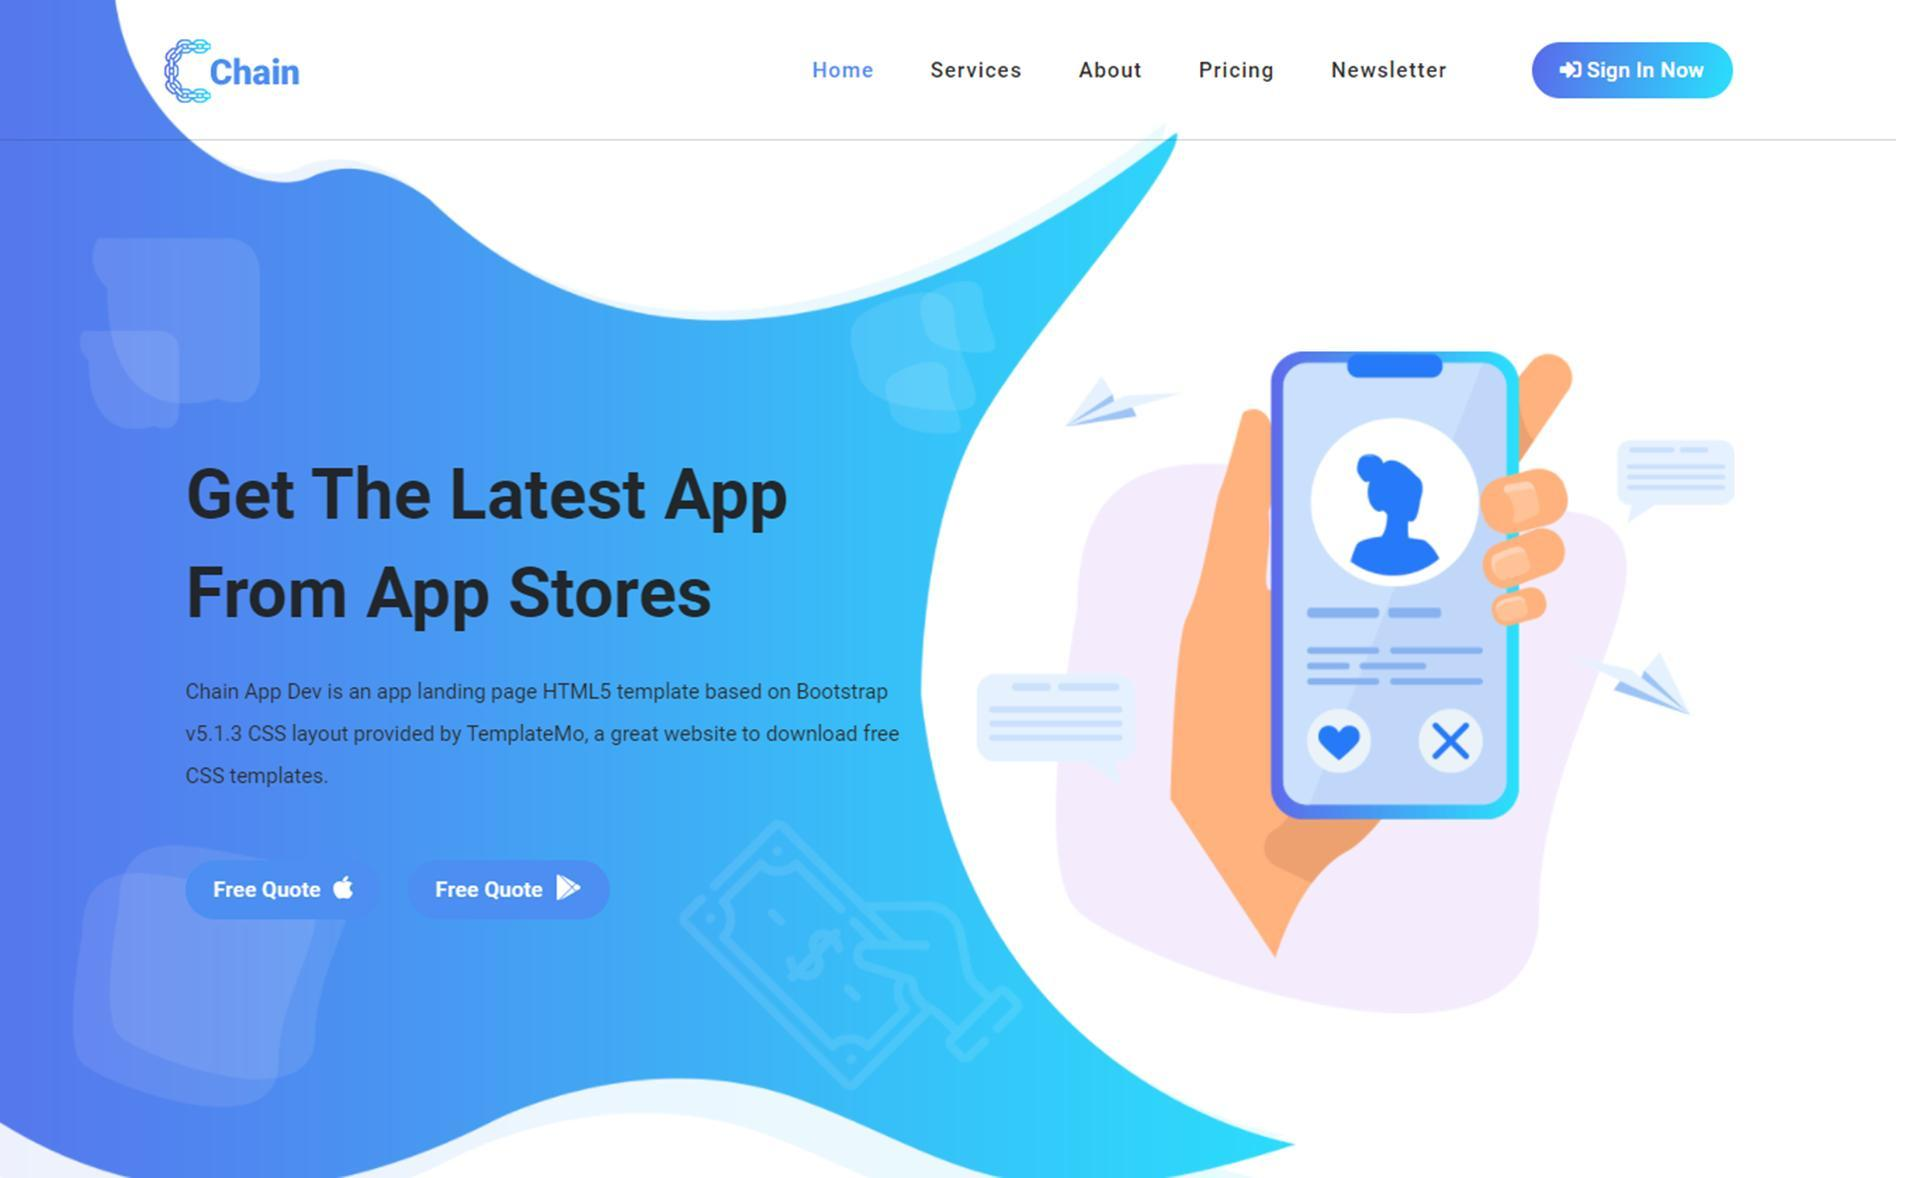button: (410, 858, 614, 922), (1535, 43, 1736, 100), (187, 863, 381, 922)
icon: (1318, 721, 1363, 764), (1430, 719, 1473, 762)
label: (1329, 55, 1452, 84), (931, 58, 1027, 85), (1199, 58, 1280, 84), (1078, 59, 1148, 85), (811, 62, 885, 84)
